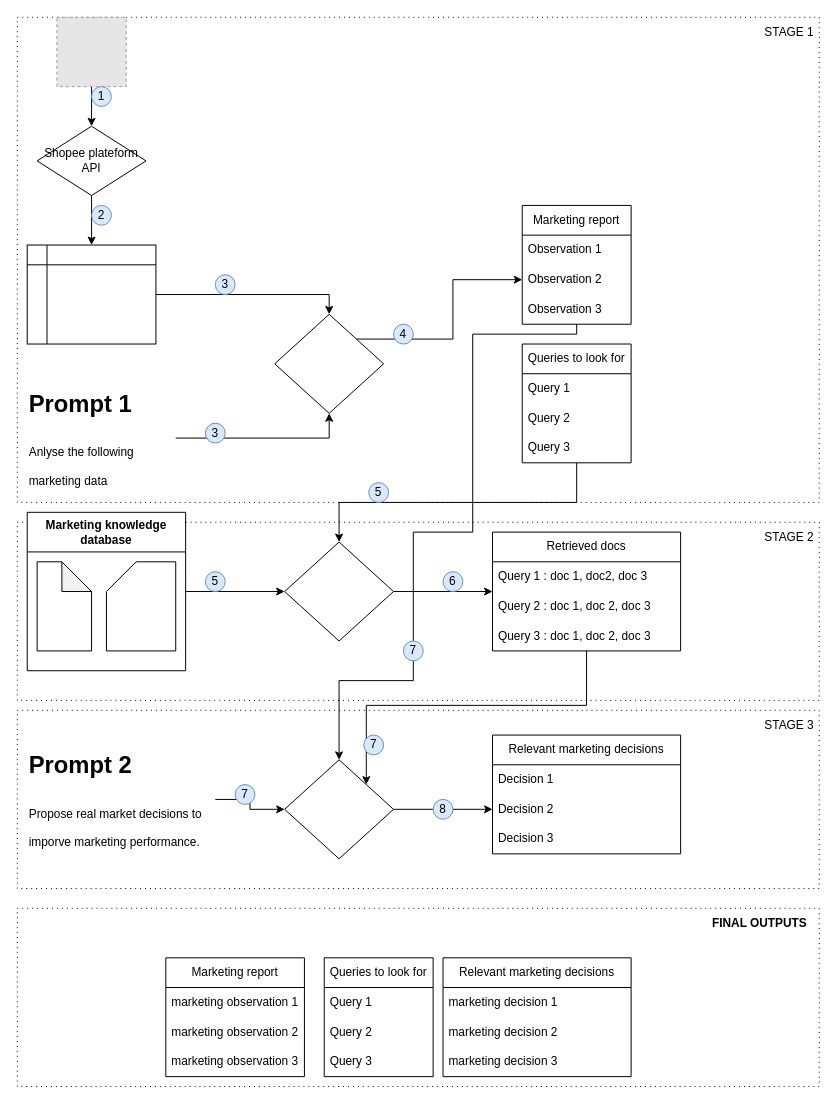
Image size: 837x1104. Some labels were removed from this diagram. Grey dashed boxes stand in for pictures. Each missing label, with the centre of its shape:
Articles: the point at 140,606
Books: the point at 64,606
LLM 1 OpenRouter API: the point at 329,363
LLM 2 OpenRouter API: the point at 339,809
Marketing data (impression, clicks, converstions, ROAS, etc.): the point at 91,294
Retriever Embedding or term based: the point at 339,591
